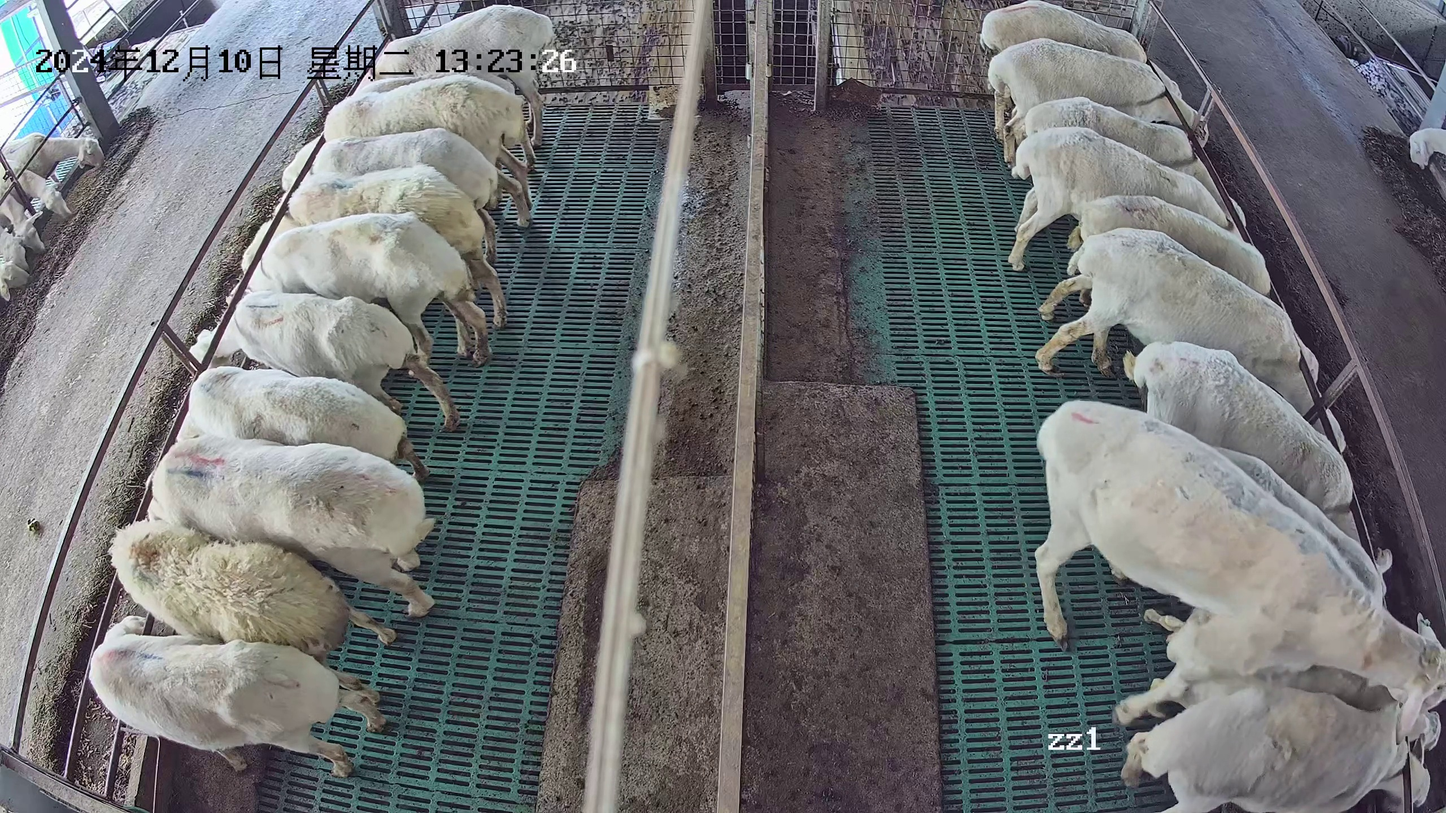Smounting: (1032, 397, 1446, 770)
mounted: (1112, 600, 1441, 766)
